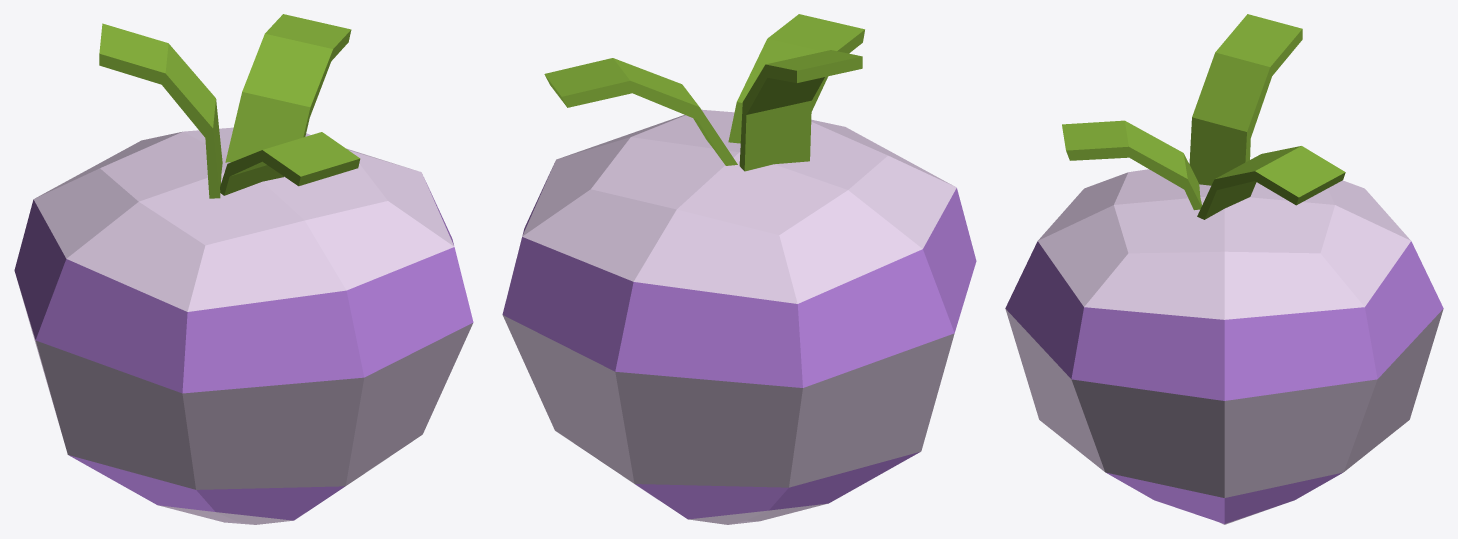
The model's file is rzepa.gltf.
3 views of the same model, side by side, from view 1: azimuth 30°, elevation 25°; view 2: azimuth 150°, elevation 25°; view 3: azimuth 270°, elevation 25° (orthographic). The views are drawn at different scales.
Visible parts, largest first — view 1: Cube.001; view 2: Cube.001; view 3: Cube.001.
Boxes of the visible parts, left/top/right/bottom form: Cube.001: left=14, top=14, right=473, bottom=524; Cube.001: left=502, top=14, right=976, bottom=524; Cube.001: left=1005, top=14, right=1443, bottom=524.
Bounding box in the file's own units: 1.23 × 1.38 × 1.23.
